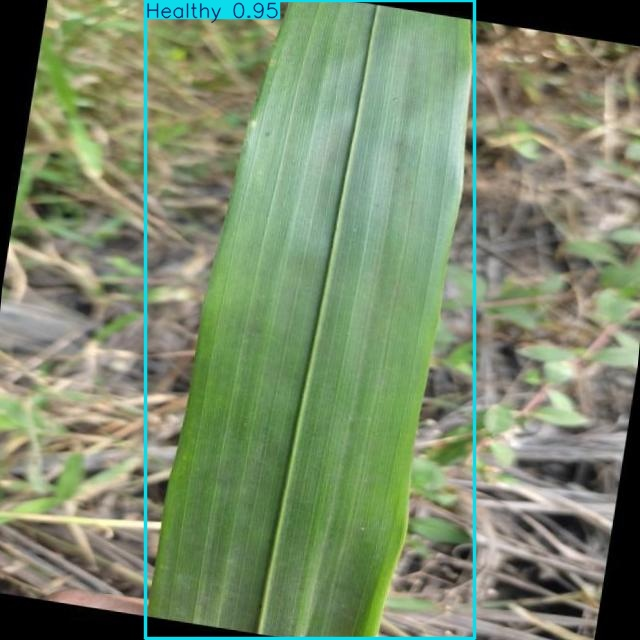Healthy: (145, 0, 474, 639)
